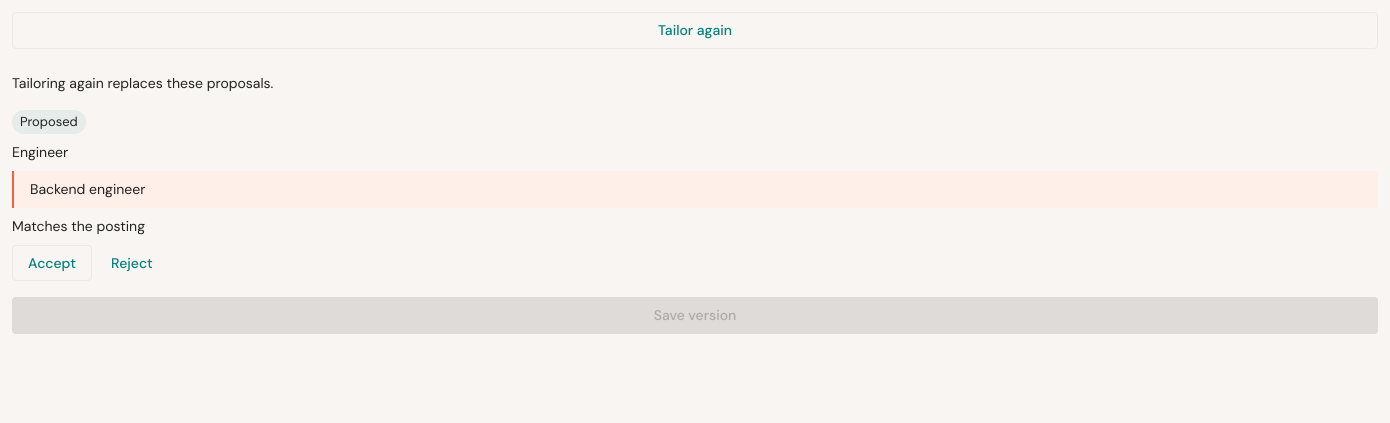
Test case: CvPanel › should accept a proposed change and save a version
Expected: the text "Backend engineer" is shown, [30, 180, 145, 198]
Expected: the button "Save version" is disabled, [12, 297, 1378, 334]
Click the button "Accept": (52, 263) [12, 244, 92, 281]
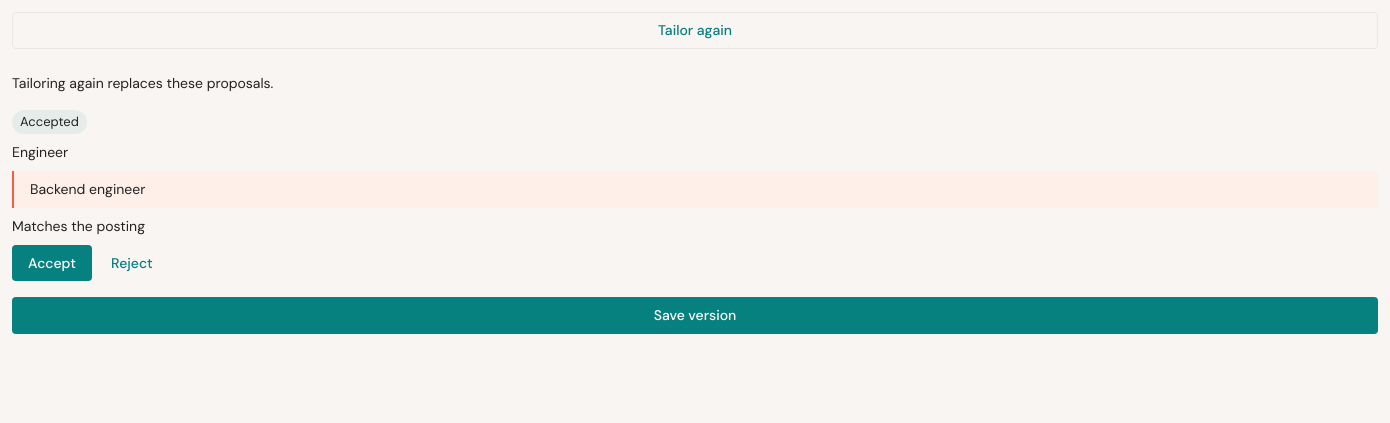
Now the button "Save version" is enabled
Click the button "Save version": (695, 315) [12, 297, 1378, 334]
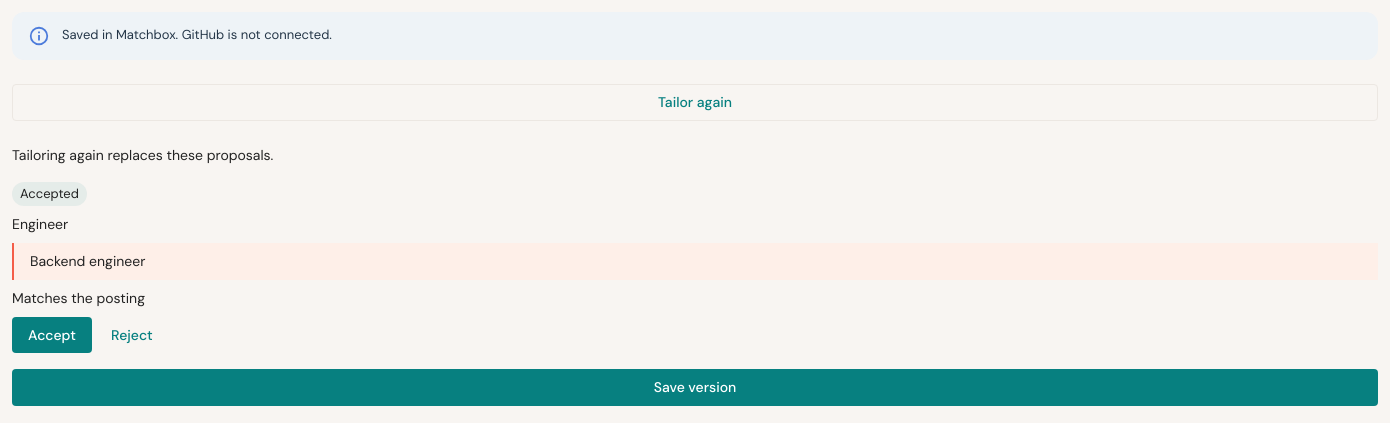
Now the text "Saved in Matchbox. GitHub is not connected." is shown, box [62, 26, 332, 43]
